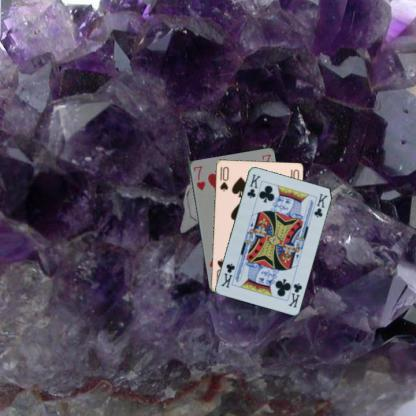10s: (218, 164, 230, 192)
7h: (191, 163, 206, 192)
Kc: (286, 280, 304, 309), (244, 172, 262, 200)
